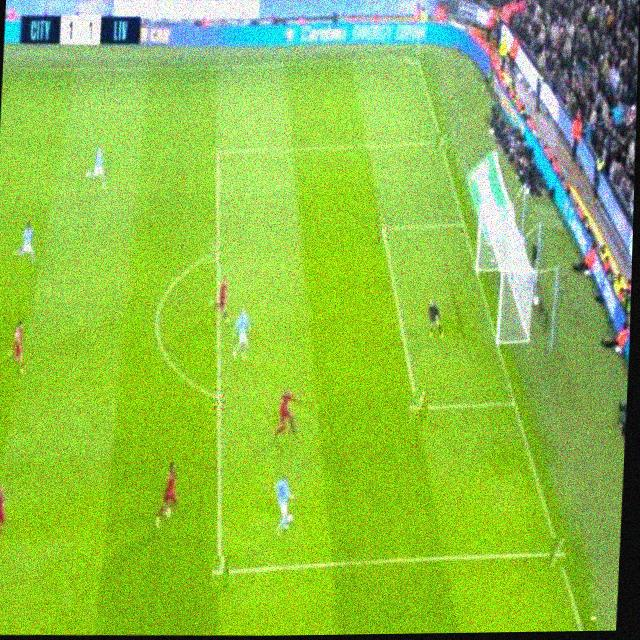bigarea_bottom_inner: (210, 555, 229, 588)
bigarea_bottom_outter: (548, 538, 566, 567)
bigarea_top_inner: (210, 139, 226, 165)
bigarea_top_outter: (434, 133, 447, 149)
bottom_arc_area_intersection: (209, 385, 226, 410)
corner: (411, 53, 425, 64)
smallarea_bottom_inner: (407, 391, 428, 423)
smallarea_bottom_outter: (507, 392, 522, 416)
smallarea_top_inner: (375, 213, 394, 243)
smallarea_top_outter: (457, 212, 470, 235)
top_arc_area_intersection: (210, 242, 225, 262)
